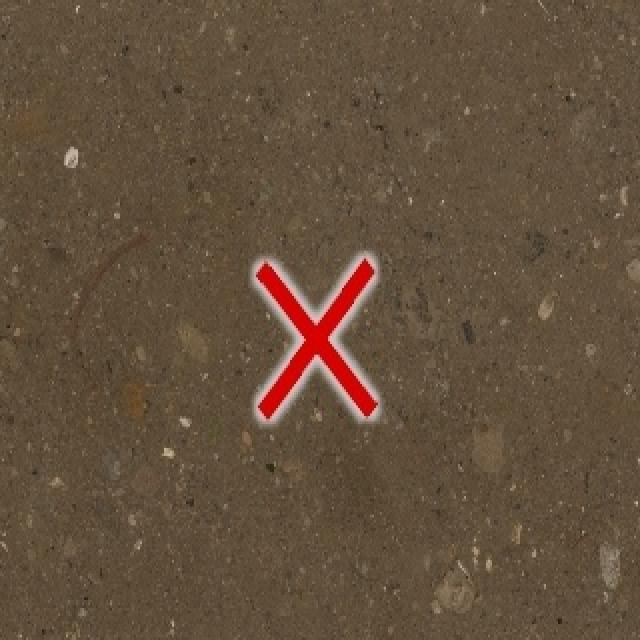x_marker: (255, 258, 375, 418)
